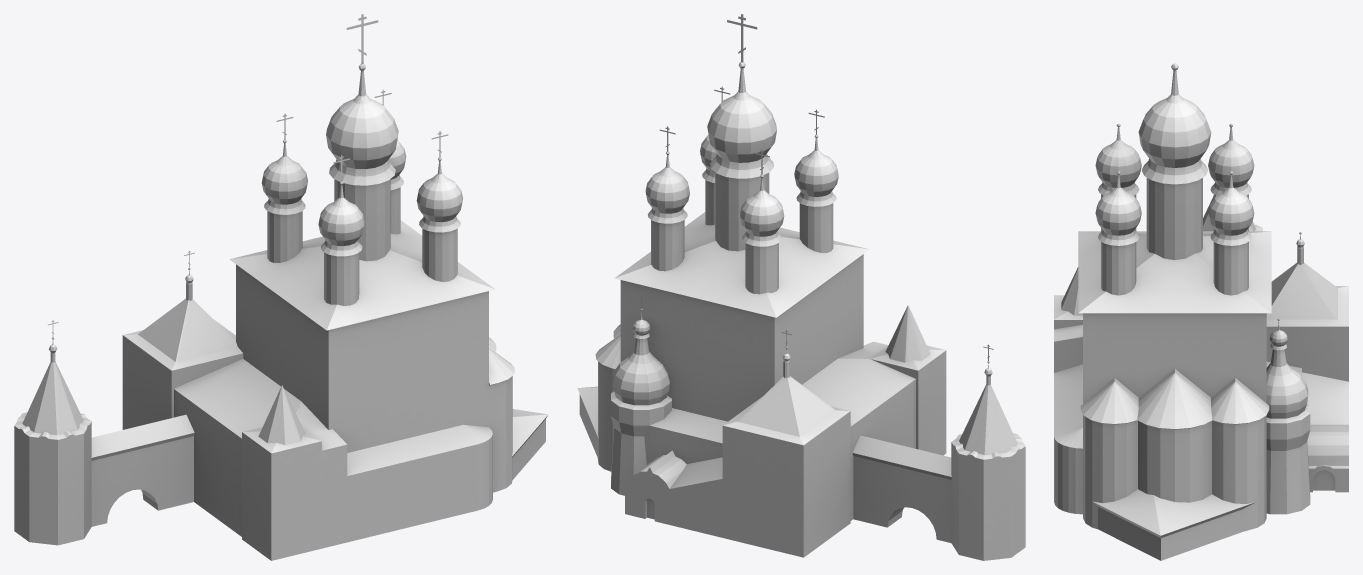
File: hramfeodorovskoy.dae
3 views of the same model, side by side, from view 1: azimuth 30°, elevation 25°; view 2: azimuth 150°, elevation 25°; view 3: azimuth 270°, elevation 25° (orthographic). The views are drawn at different scales.
Visible parts, largest first — view 1: hramfeodorovskoy; view 2: hramfeodorovskoy; view 3: hramfeodorovskoy.
Part boxes in pixels (x1,y1,x2,y2): hramfeodorovskoy: (14, 14, 548, 560); hramfeodorovskoy: (577, 14, 1025, 560); hramfeodorovskoy: (1054, 63, 1348, 560).
Bounding box in the file's own units: 0.0891 × 0.0465 × 0.0803.
Materials: 1 (1 with a texture image).
